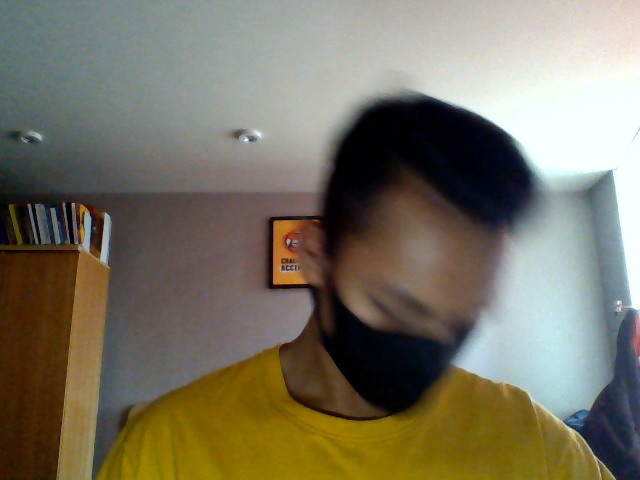mask: (315, 308, 461, 414)
